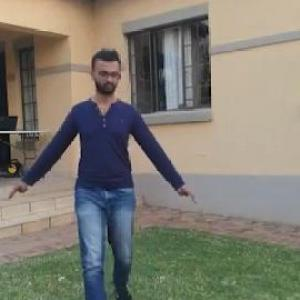land: (6, 41, 195, 299)
